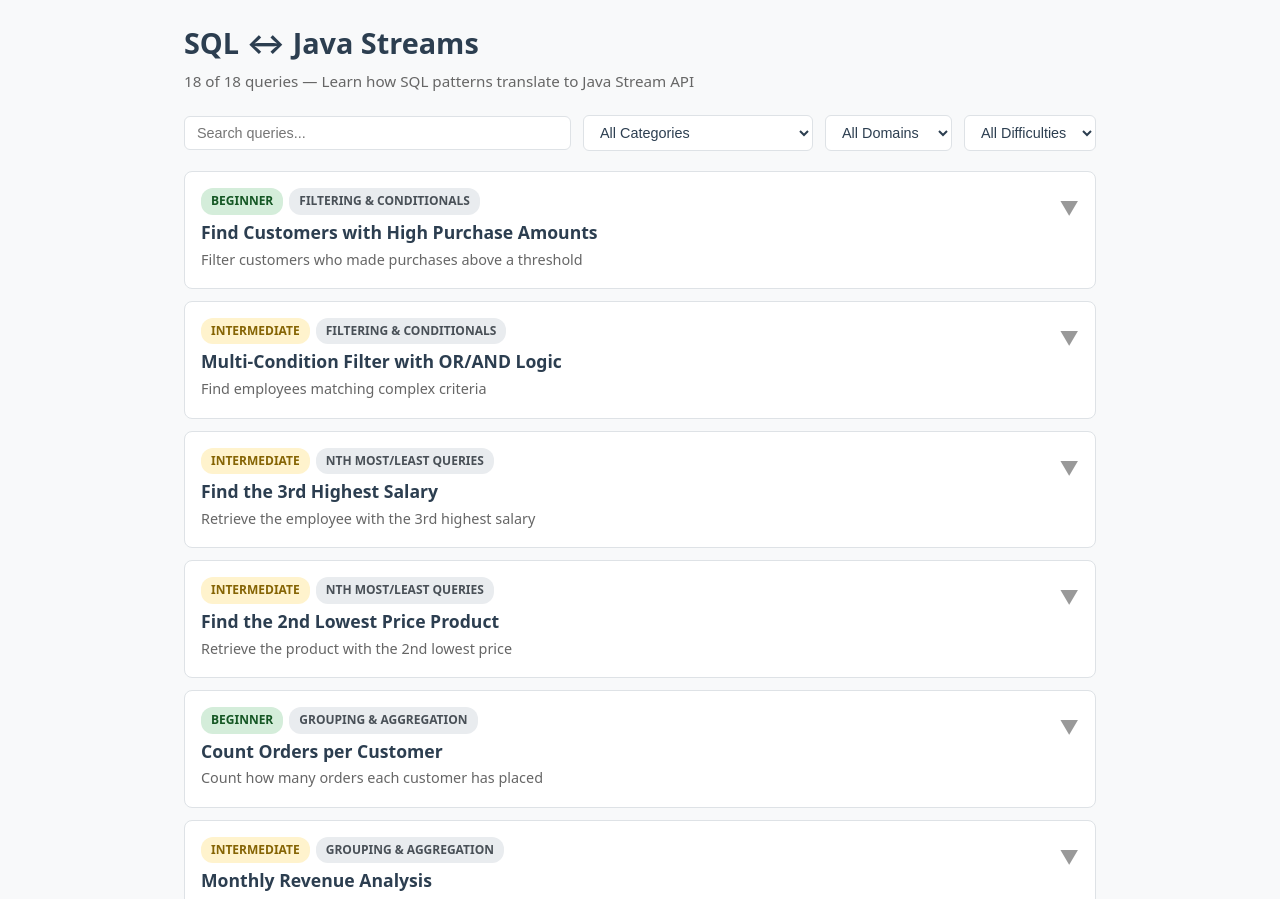
SqlStreamsPage › filters results by search
Type "rank" into the field with placeholder "Search queries...". click: (378, 133)
box: [184,116,571,150]
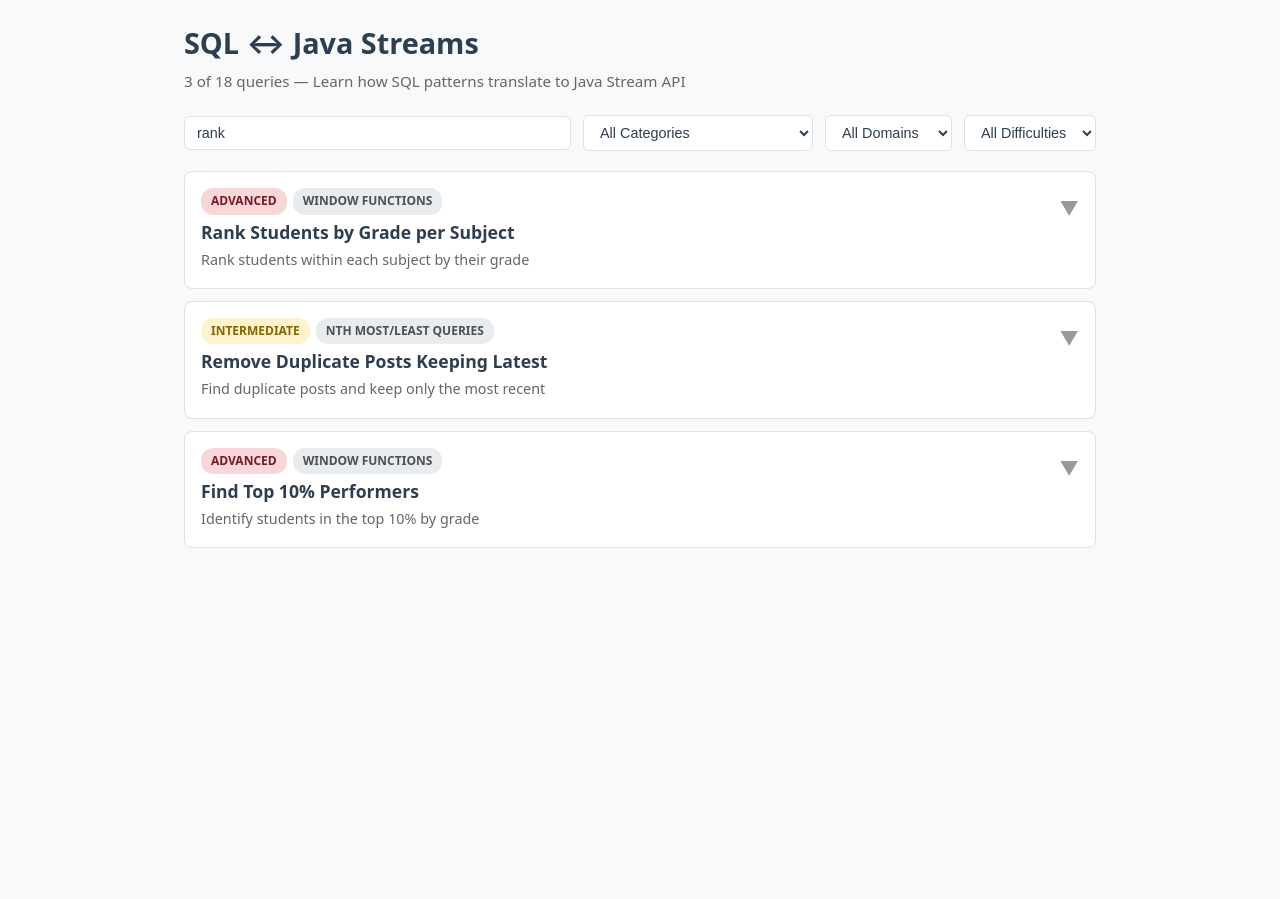
Check: the heading "Rank Students by Grade per Subject" is shown, box [201,220,515,244]
Check: the button "Find Customers with High Purchase Amounts" is gone
